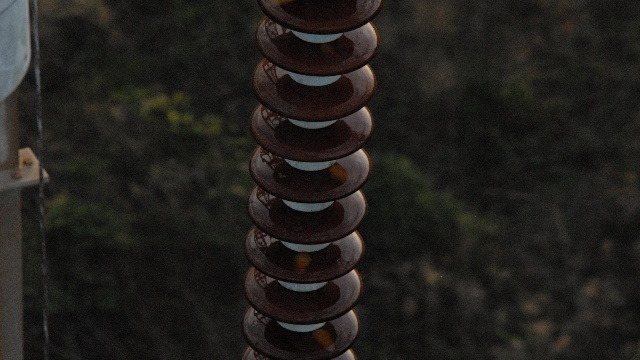insulator_unspecified: (240, 0, 381, 358)
pollution_flashover_local: (294, 250, 313, 276), (317, 327, 333, 352), (330, 163, 349, 178)
